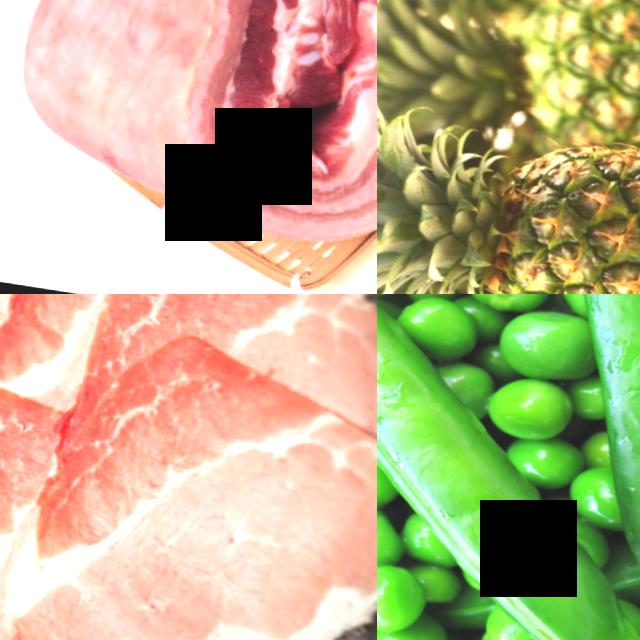pineapple: (433, 109, 640, 294), (451, 0, 640, 148)
pork belly: (0, 323, 377, 640), (0, 0, 377, 259), (0, 370, 70, 640)
